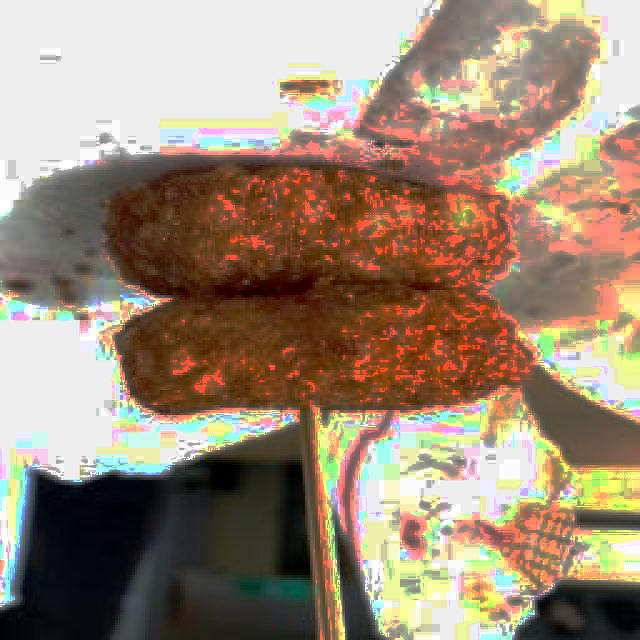Hashbrown: (105, 164, 510, 293), (117, 286, 527, 407)
